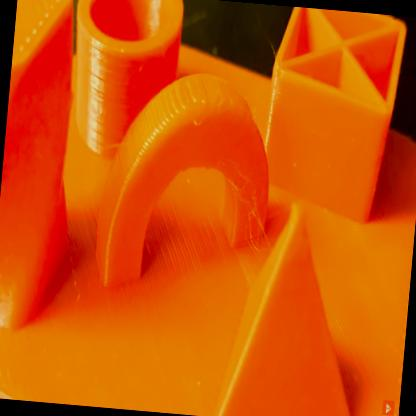fail: (234, 190, 281, 271)
